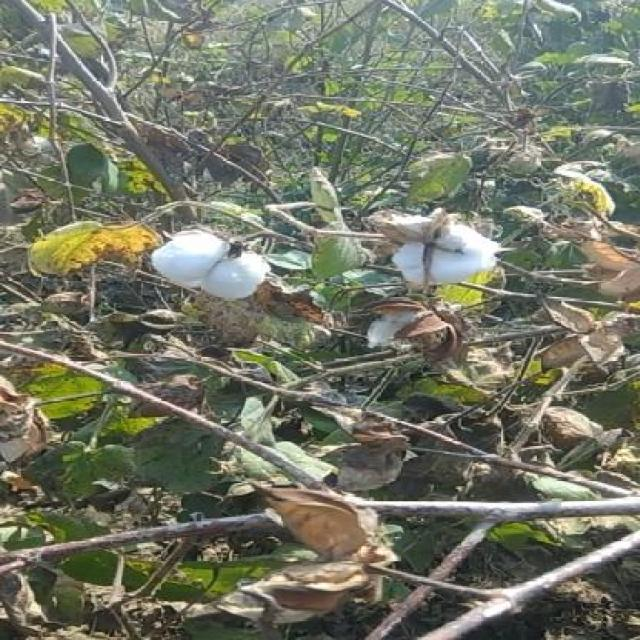cotton_ready: (357, 205, 495, 309), (148, 224, 260, 313)
